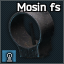Mosin front sight: (0, 0, 64, 64)
